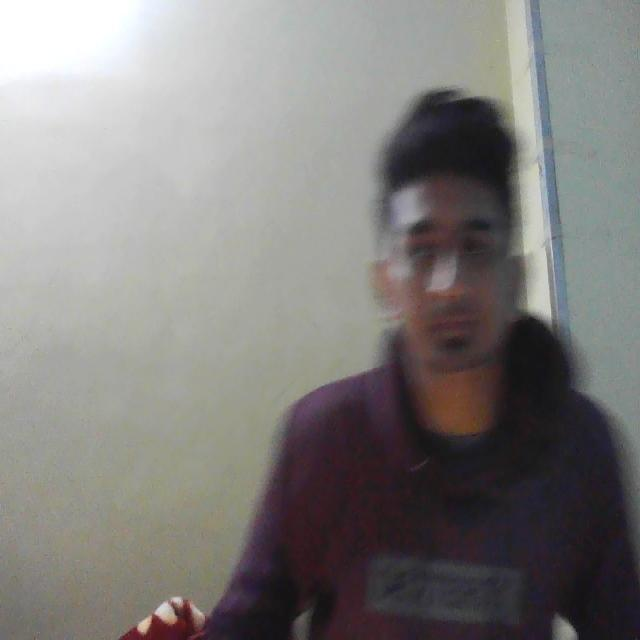real: (371, 92, 539, 409)
